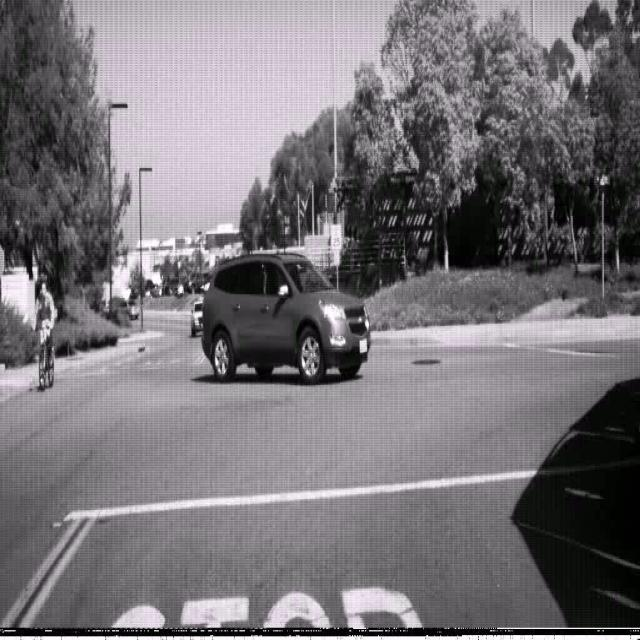speedLimit25: (331, 224, 341, 249)
